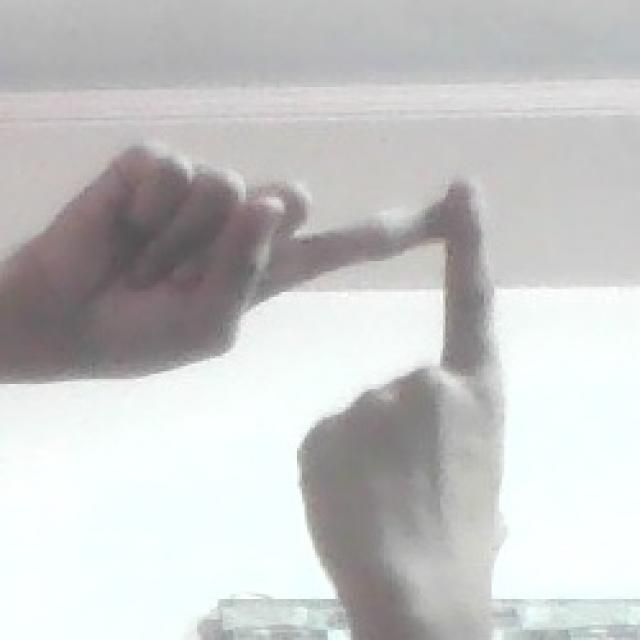Alphabet-E: (0, 148, 504, 640)
